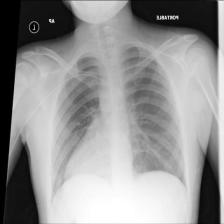normal: (45, 42, 190, 200)
